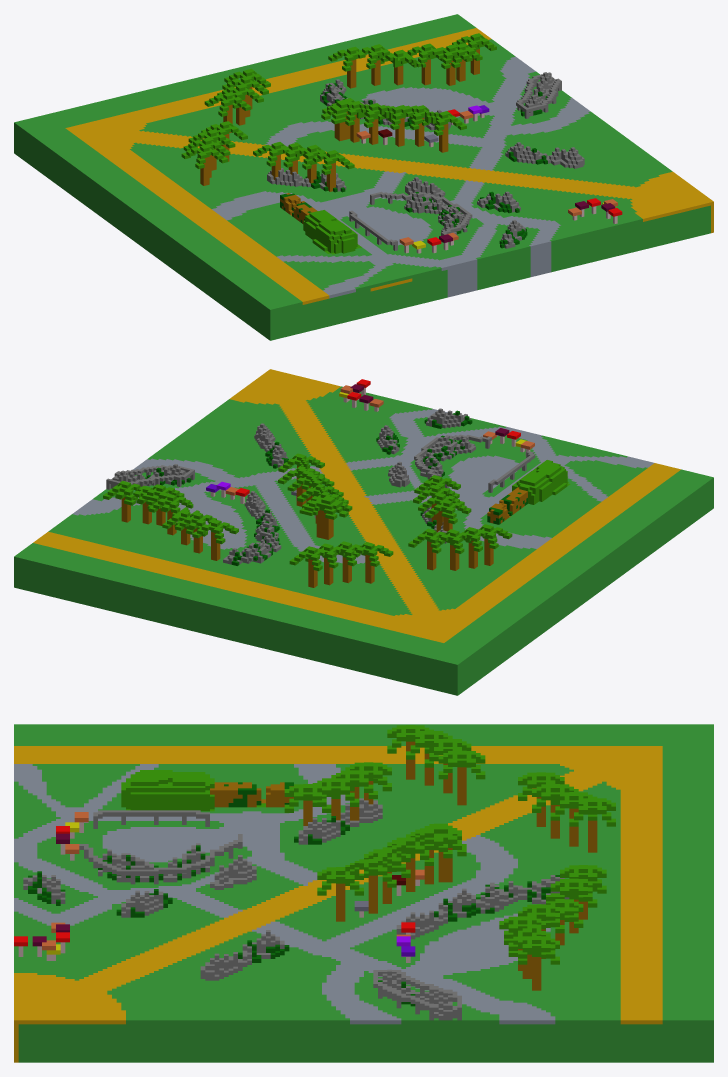
Rendered from map_Third-0.obj.
3 views of the same model, one above another, from view 1: azimuth 30°, elevation 25°; view 2: azimuth 150°, elevation 25°; view 3: azimuth 270°, elevation 25° (orthographic). The views are drawn at different scales.
Bounding box in the file's own units: 15 × 2.2 × 15.
Materials: 1 (1 with a texture image).
